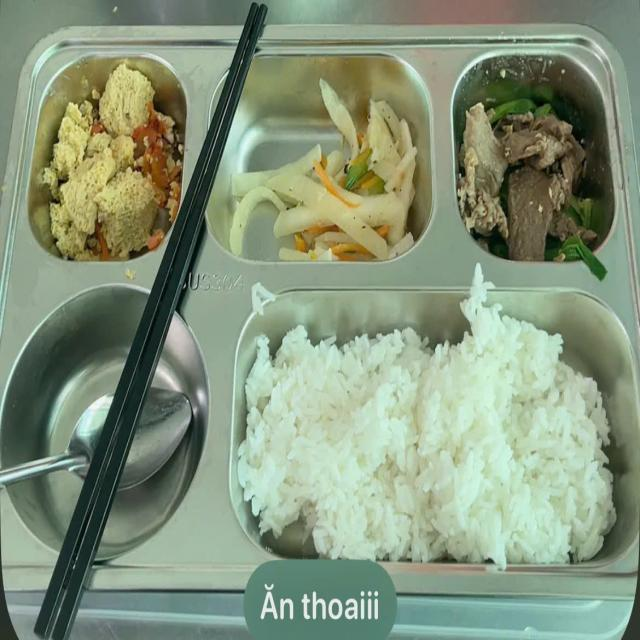com_trang: (278, 328, 618, 568)
trung_chien: (58, 75, 166, 241)
